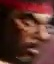ryu: (8, 1, 53, 62)
